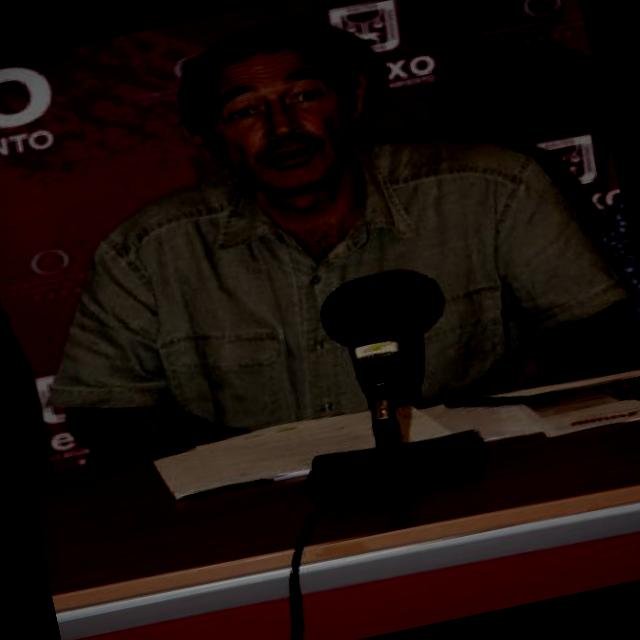Person: (2, 0, 633, 581)
